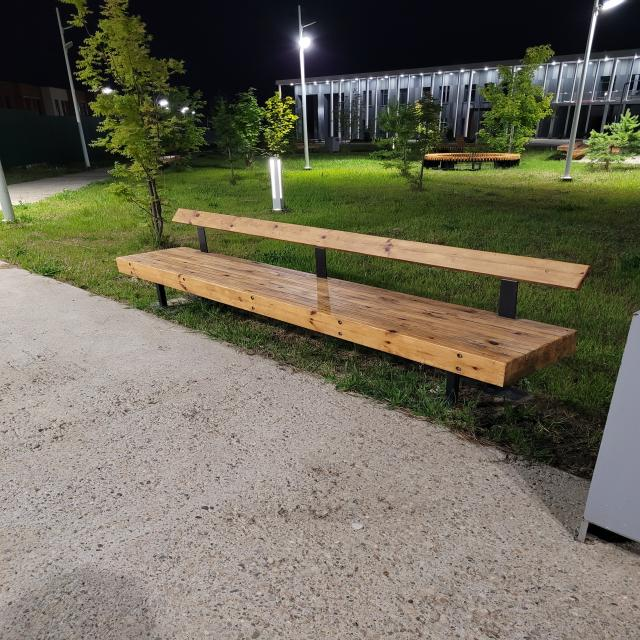Bench: (116, 208, 593, 409)
